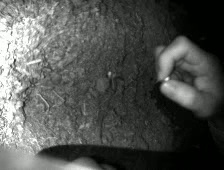corn: (107, 71, 112, 79)
